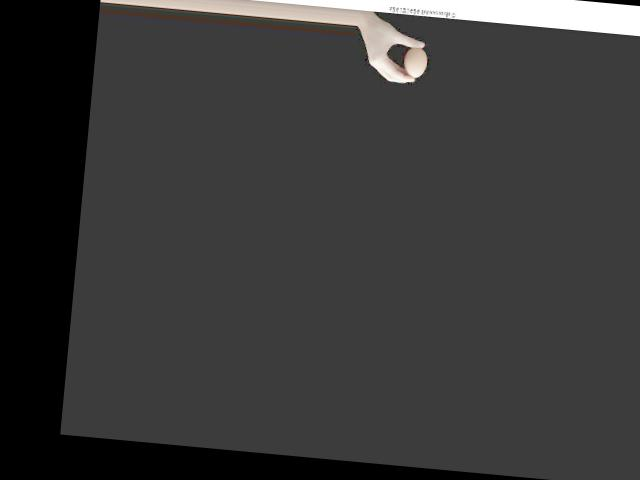egg: (403, 46, 428, 79)
